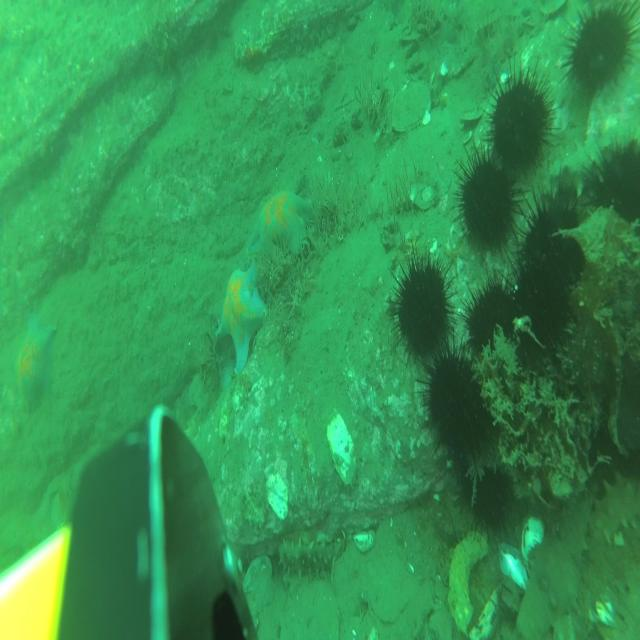echinus: (484, 54, 561, 185), (454, 142, 524, 265), (564, 0, 640, 111), (392, 245, 456, 369), (520, 174, 584, 296), (511, 249, 570, 371), (422, 343, 485, 456), (590, 131, 640, 245), (466, 271, 518, 365), (459, 456, 514, 540), (590, 409, 639, 487)
holothurian: (516, 482, 598, 640), (546, 131, 626, 202), (587, 470, 640, 547), (280, 537, 342, 580)
scallop: (278, 578, 341, 640), (392, 80, 432, 134), (244, 552, 272, 606), (410, 181, 438, 211)
starfish: (215, 266, 267, 375), (242, 185, 310, 268), (13, 310, 53, 414)
